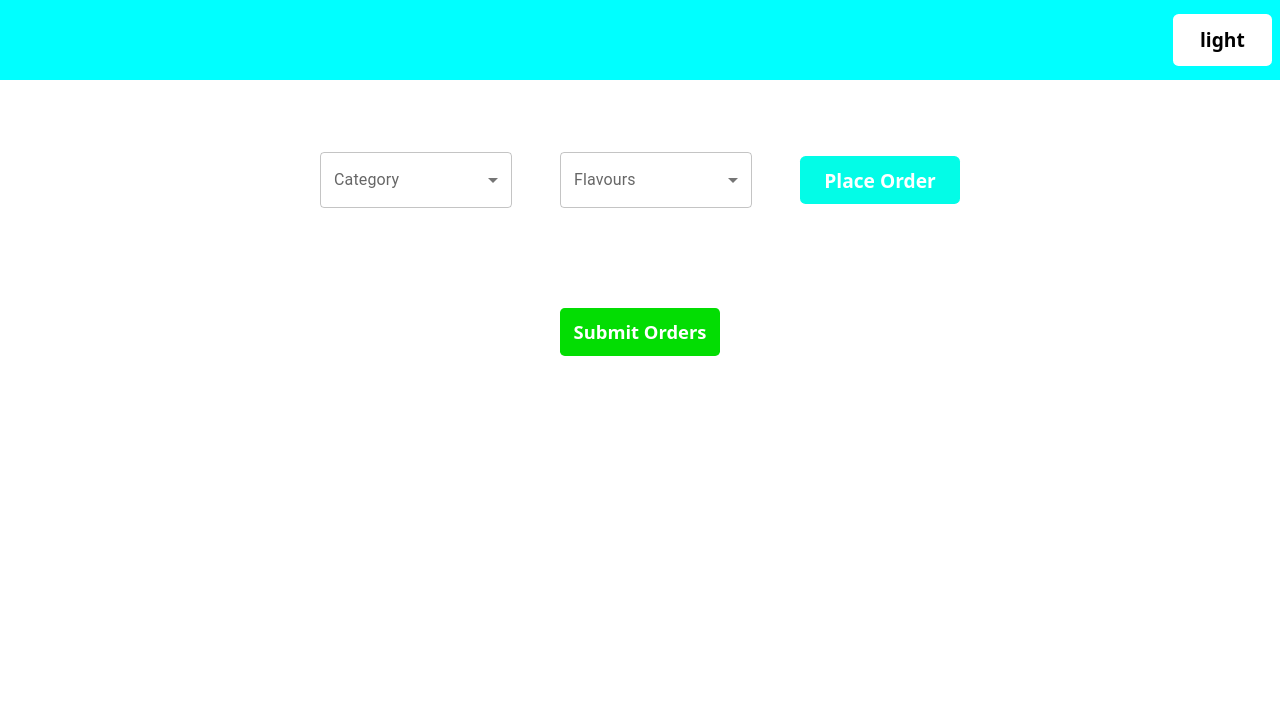
yes redux is working fine
Step 1. Click the button with test id "themes" → (1222, 40), box [1173,14,1272,66]
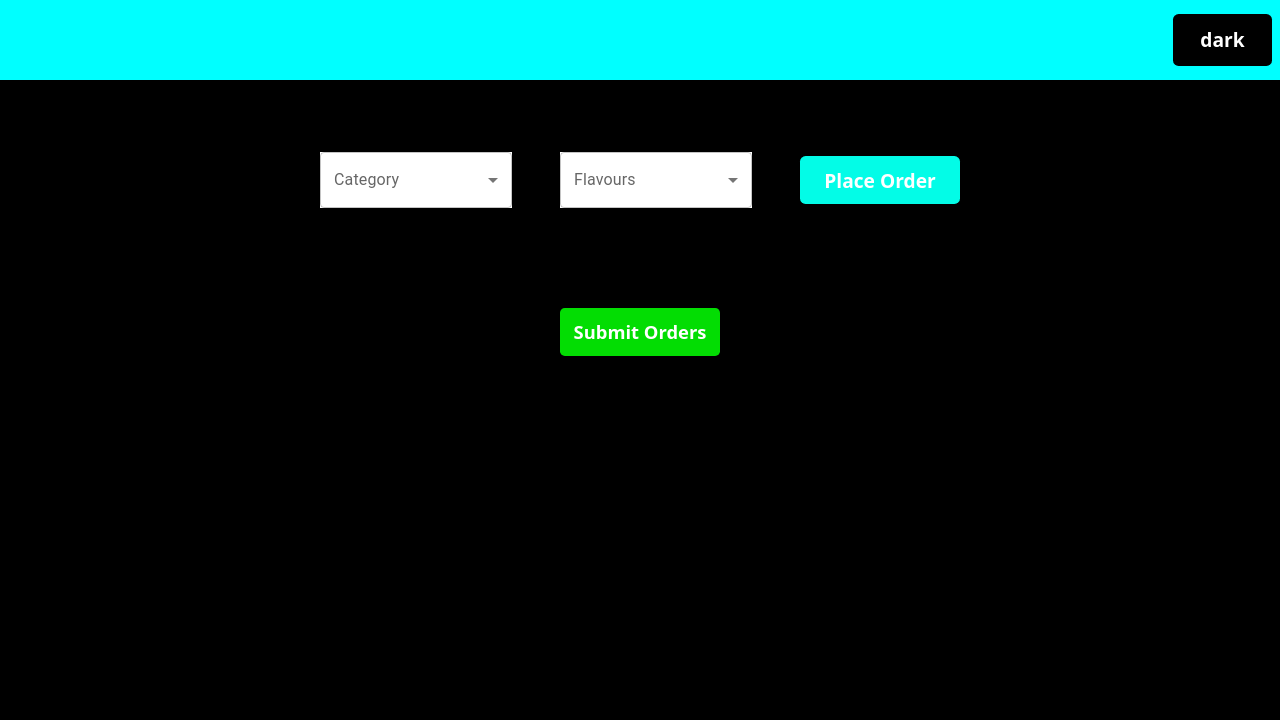
Result: the button with test id "themes" reads "dark"
Step 2. Click the button with test id "themes" → (1222, 40), box [1173,14,1272,66]
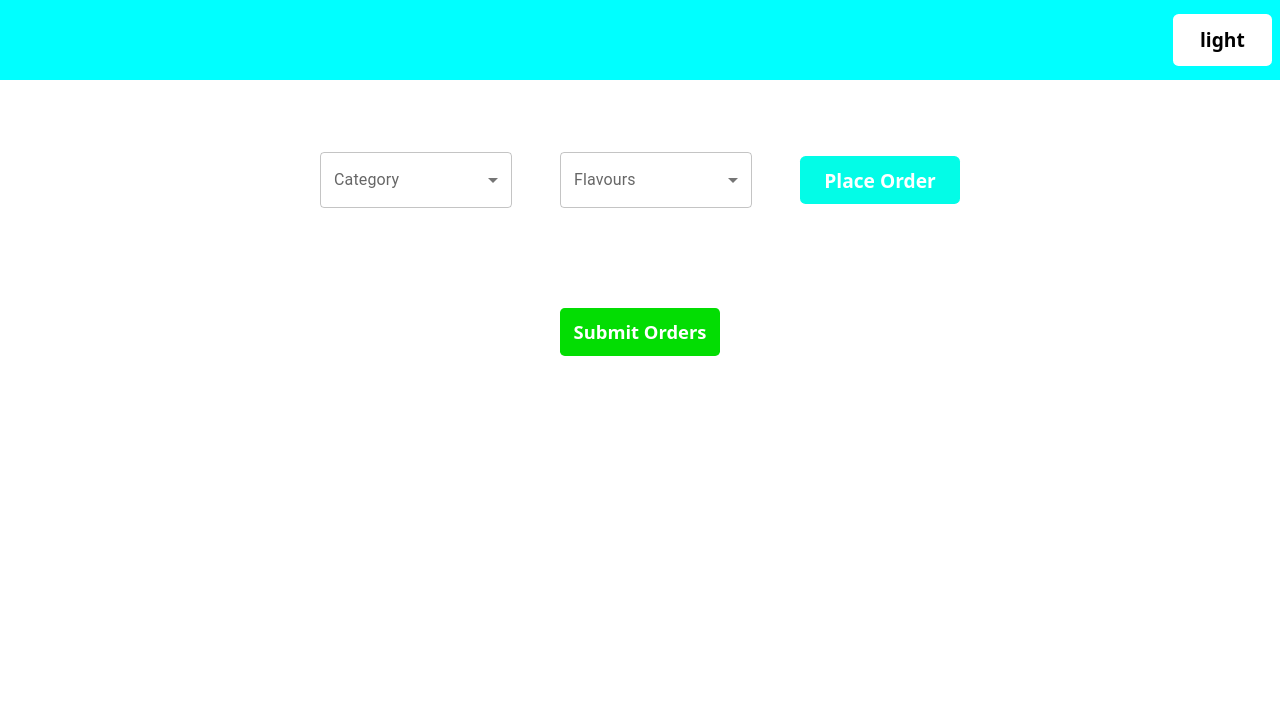
Result: the button with test id "themes" reads "light" at [1173,14,1272,66]
